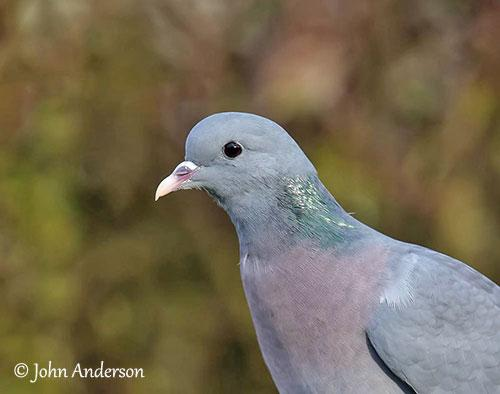Flying Rat: (150, 108, 500, 394)
